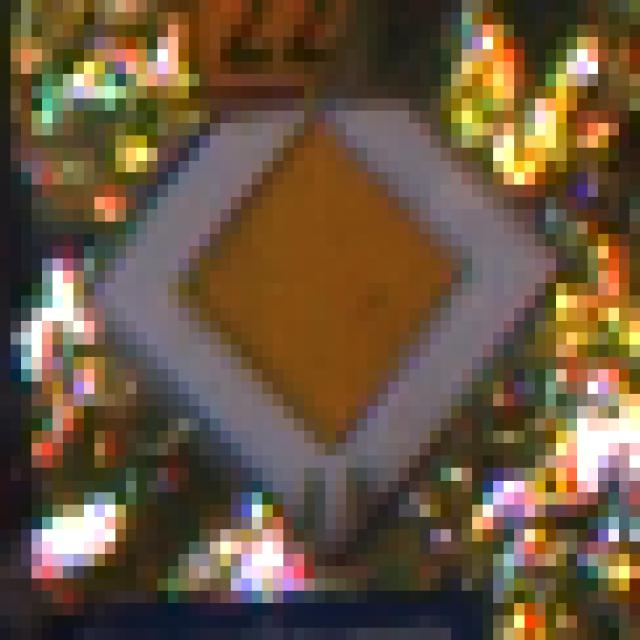Main Road: (64, 63, 588, 580)
